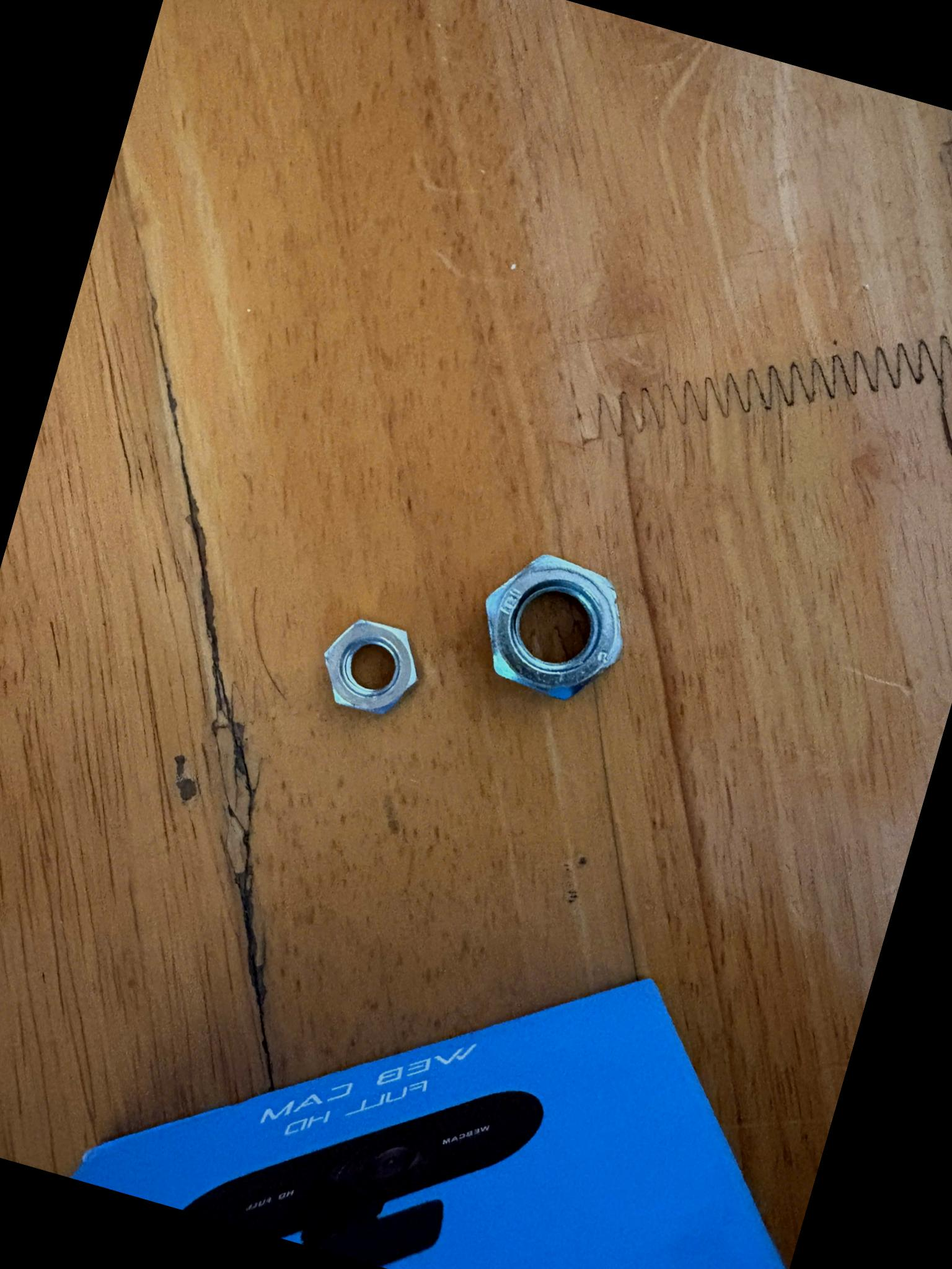nut: (455, 529, 644, 735), (298, 608, 429, 739)
